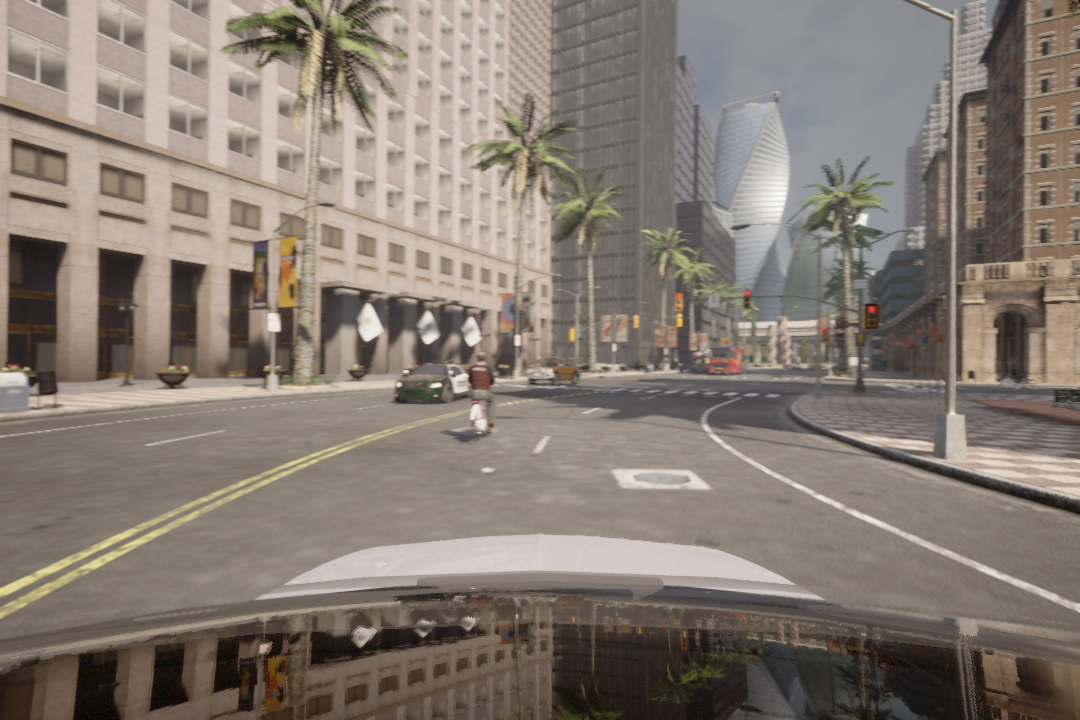TrafficLight: (864, 304, 880, 331), (744, 291, 754, 311), (674, 294, 684, 313)
